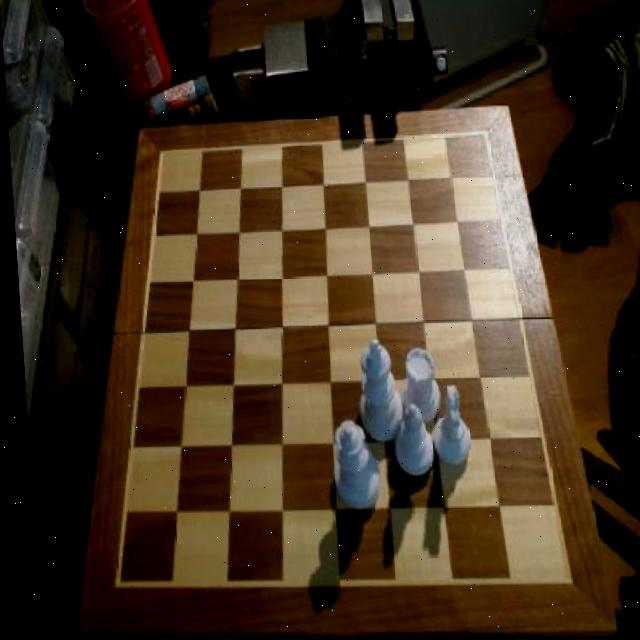black-rook: (386, 402, 430, 478)
white-bishop: (350, 338, 399, 440)
white-king: (425, 382, 467, 469)
white-pawn: (324, 418, 377, 509)
white-queen: (396, 347, 437, 425)
